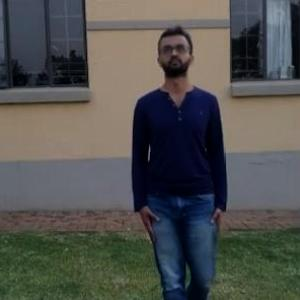follow: (130, 22, 228, 296)
